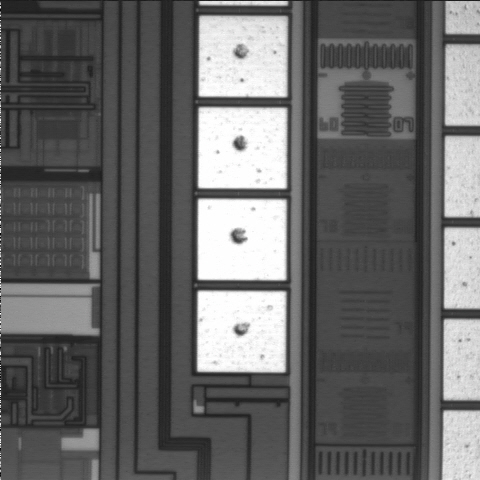pad: (198, 107, 287, 189), (198, 199, 287, 280), (197, 291, 286, 372), (199, 16, 287, 97)
